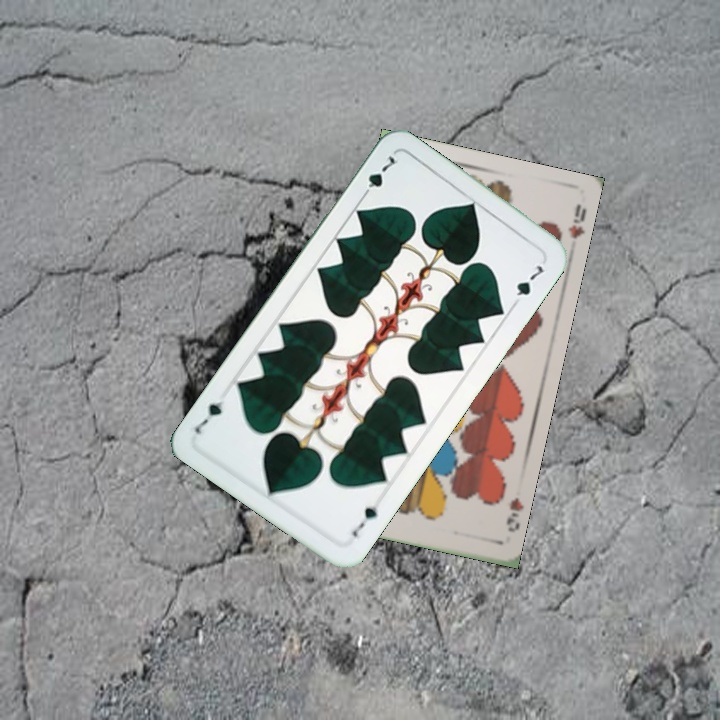G7: (357, 151, 401, 202), (348, 502, 381, 540)
H9: (502, 493, 524, 535)
